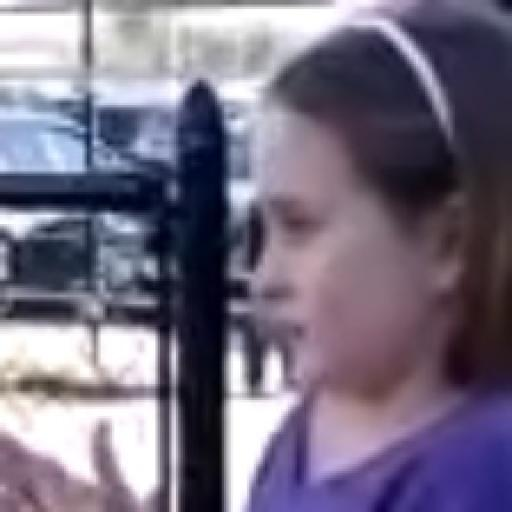Autism: (244, 44, 506, 448)
